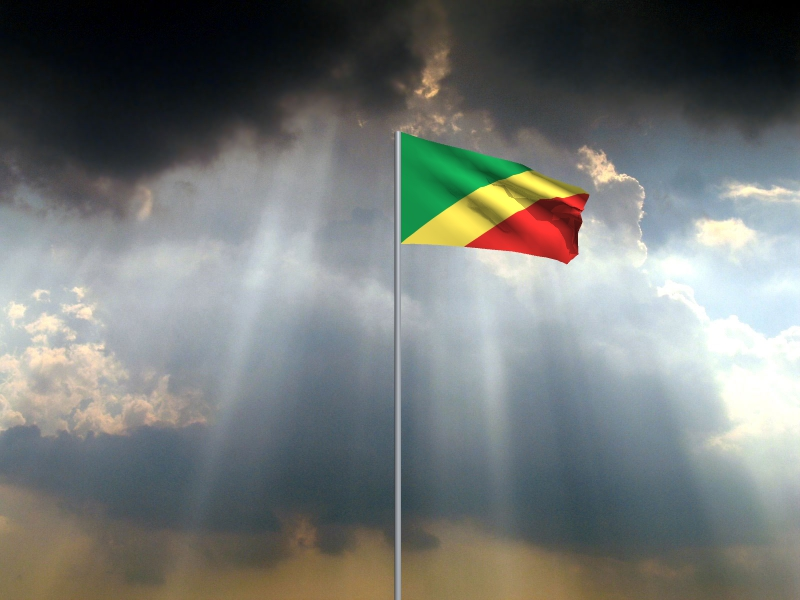cg: (401, 133, 591, 267)
